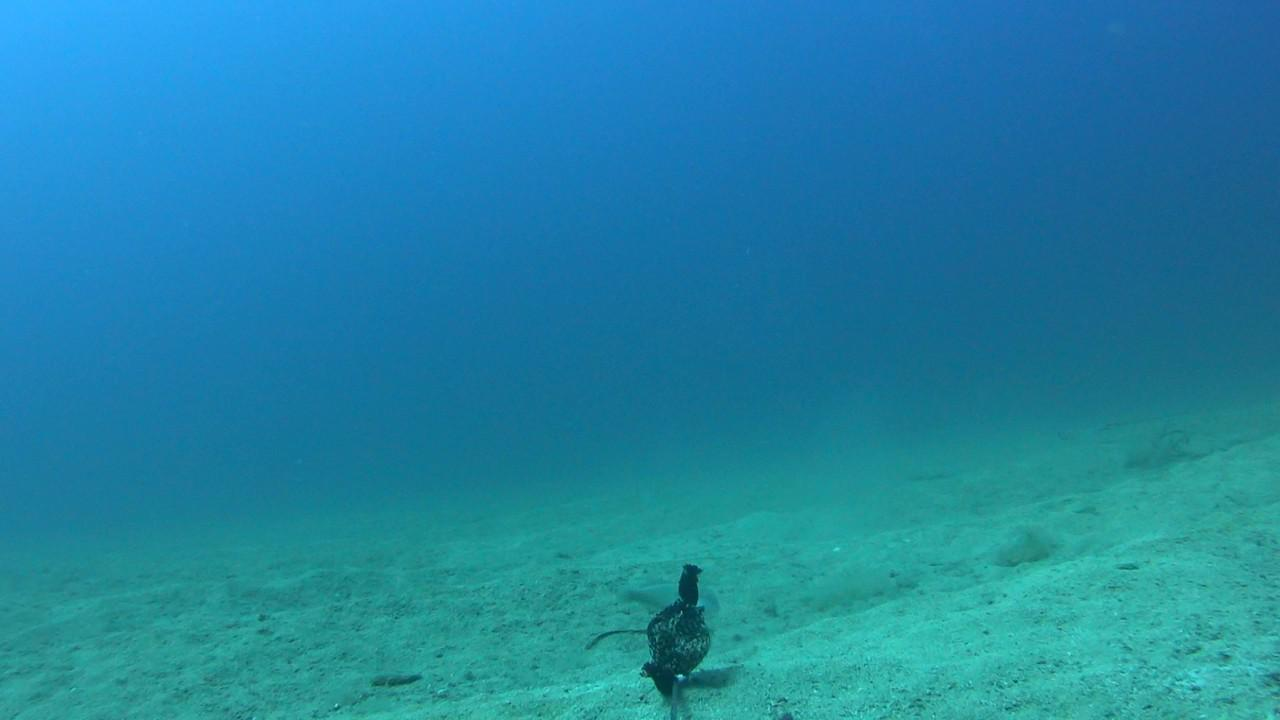myliobatis: (1041, 399, 1205, 465)
